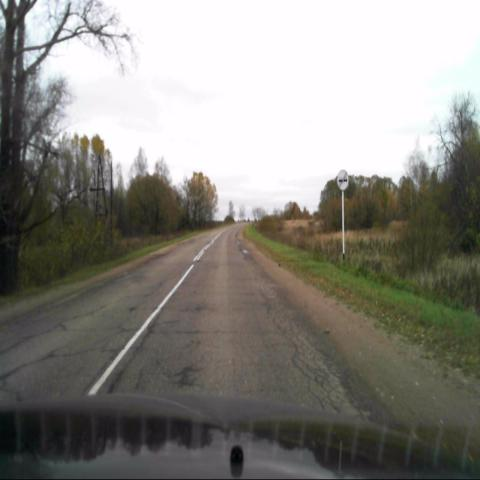3_21: (336, 169, 349, 190)
